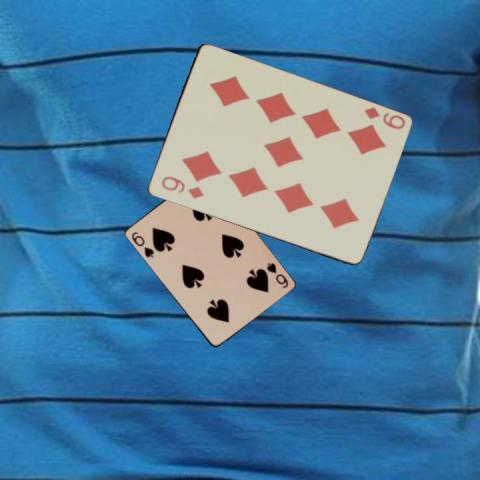6s: (128, 229, 155, 259), (264, 260, 290, 289)
9d: (158, 173, 205, 201), (360, 104, 406, 131)
